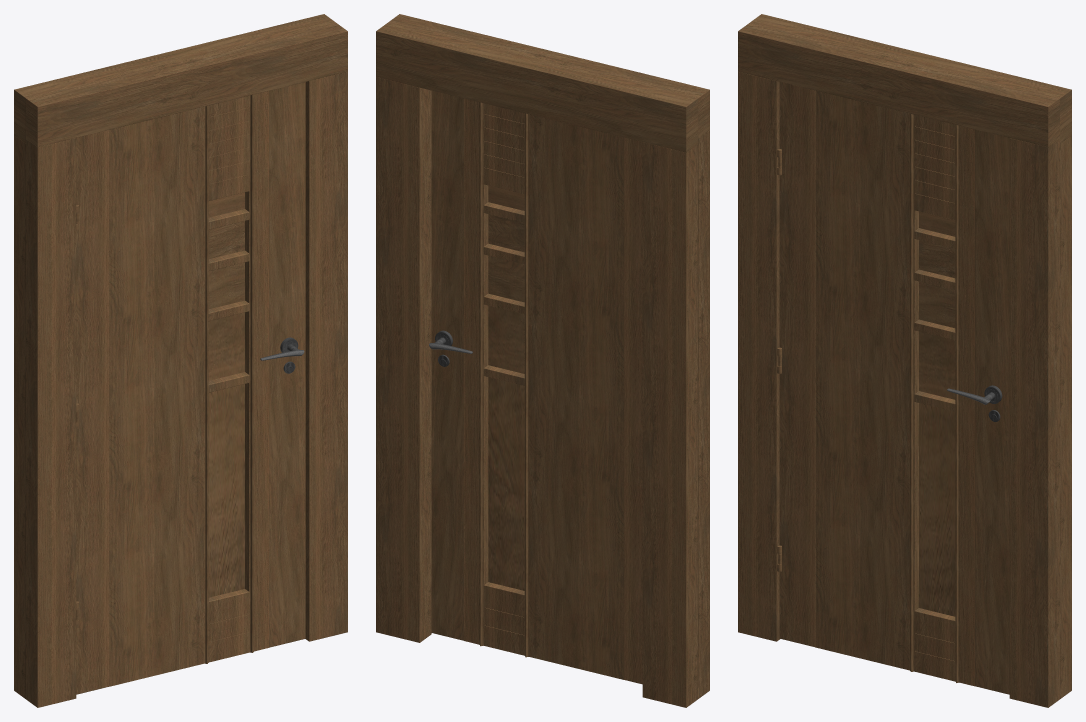
Rendered from door01.FBX.
3 renders of one model, left to right at view 1: azimuth 30°, elevation 25°; view 2: azimuth 150°, elevation 25°; view 3: azimuth 330°, elevation 25°, orthographic.
Parts seen in each view (by area): view 1: Door Body, Door Frame; view 2: Door Body, Door Frame; view 3: Door Body, Door Frame.
Part boxes in pixels (left/top/right/bottom): Door Body: left=76, top=82, right=305, bottom=694; Door Frame: left=14, top=14, right=347, bottom=707; Door Body: left=429, top=90, right=642, bottom=684; Door Frame: left=376, top=14, right=709, bottom=707; Door Body: left=778, top=82, right=1009, bottom=694; Door Frame: left=738, top=14, right=1071, bottom=707.
Size of the model in its own units: 53.88 by 9.68 by 99.76.
